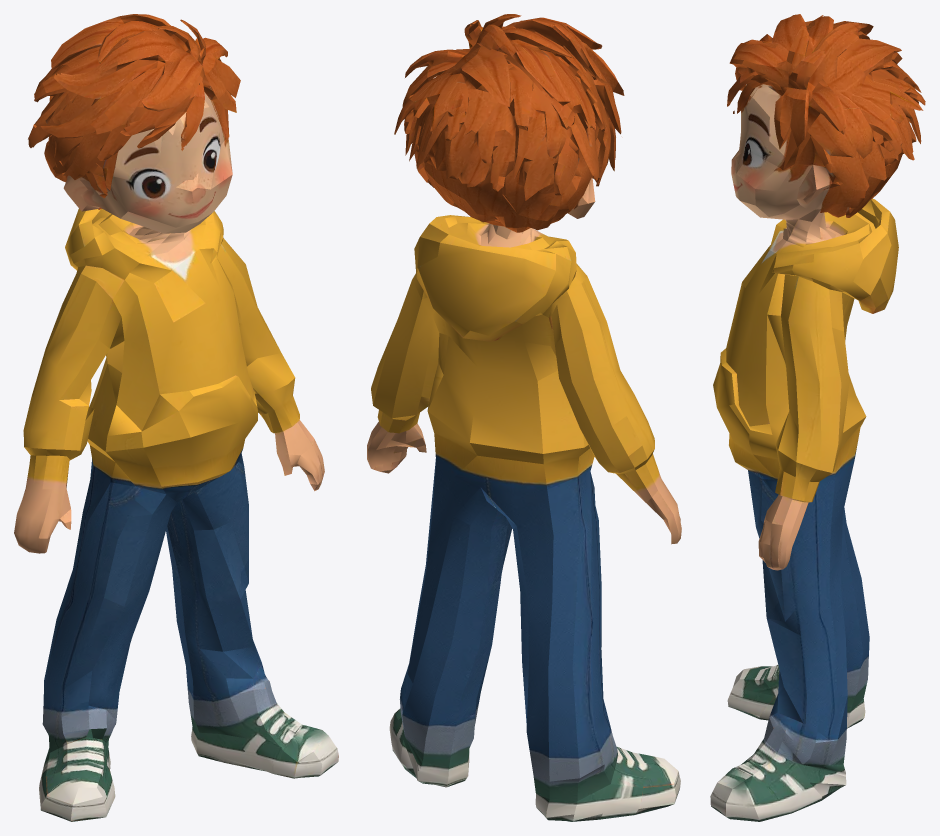
Rendered from liam.glb.
The picture shows the model from 3 angles, left to right: view 1: azimuth 30°, elevation 25°; view 2: azimuth 150°, elevation 25°; view 3: azimuth 270°, elevation 25°; orthographic projection. The views are drawn at different scales.
Visible parts, largest first — view 1: Mesh0; view 2: Mesh0; view 3: Mesh0.
Part boxes in pixels (box(x1,y1,x2,y2)): Mesh0: box(14, 14, 338, 821); Mesh0: box(367, 14, 681, 821); Mesh0: box(710, 14, 925, 821).
Size of the model in its own units: 0.8117 by 1.9 by 0.5091.
Materials: 1 (1 with a texture image).
